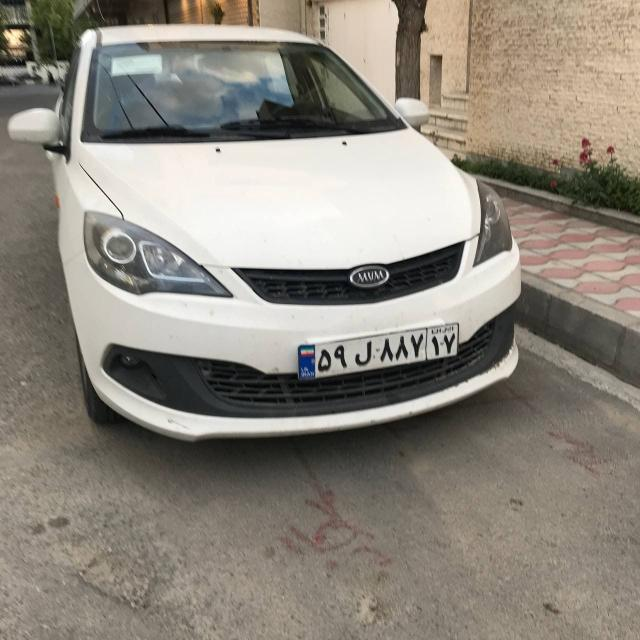Plates: (295, 321, 463, 380)
